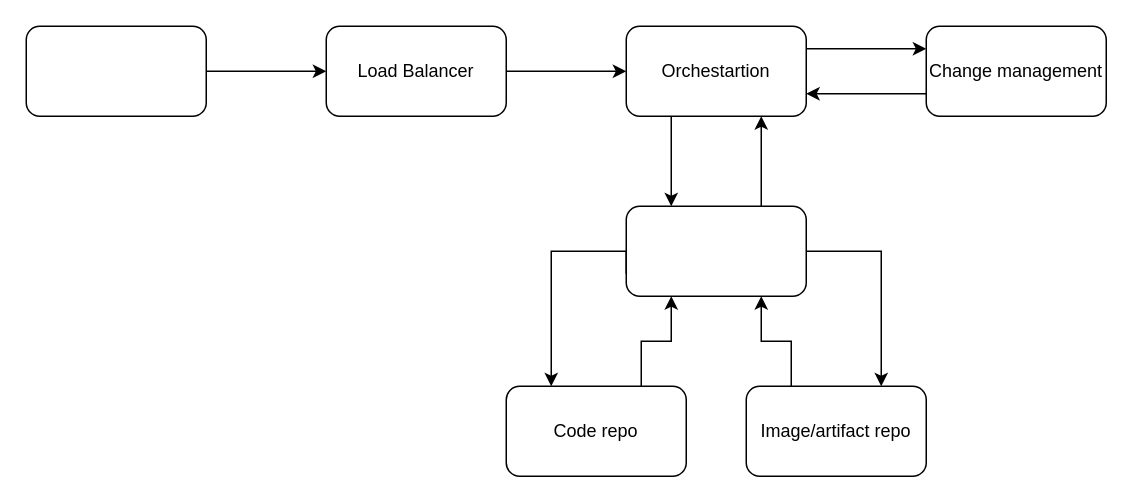
This 1133x503 diagram has some shape labels left out. The centre of each missing label's shape, as x and y in pixels:
"User" goes at [115,70].
"Workers" goes at [715,250].
